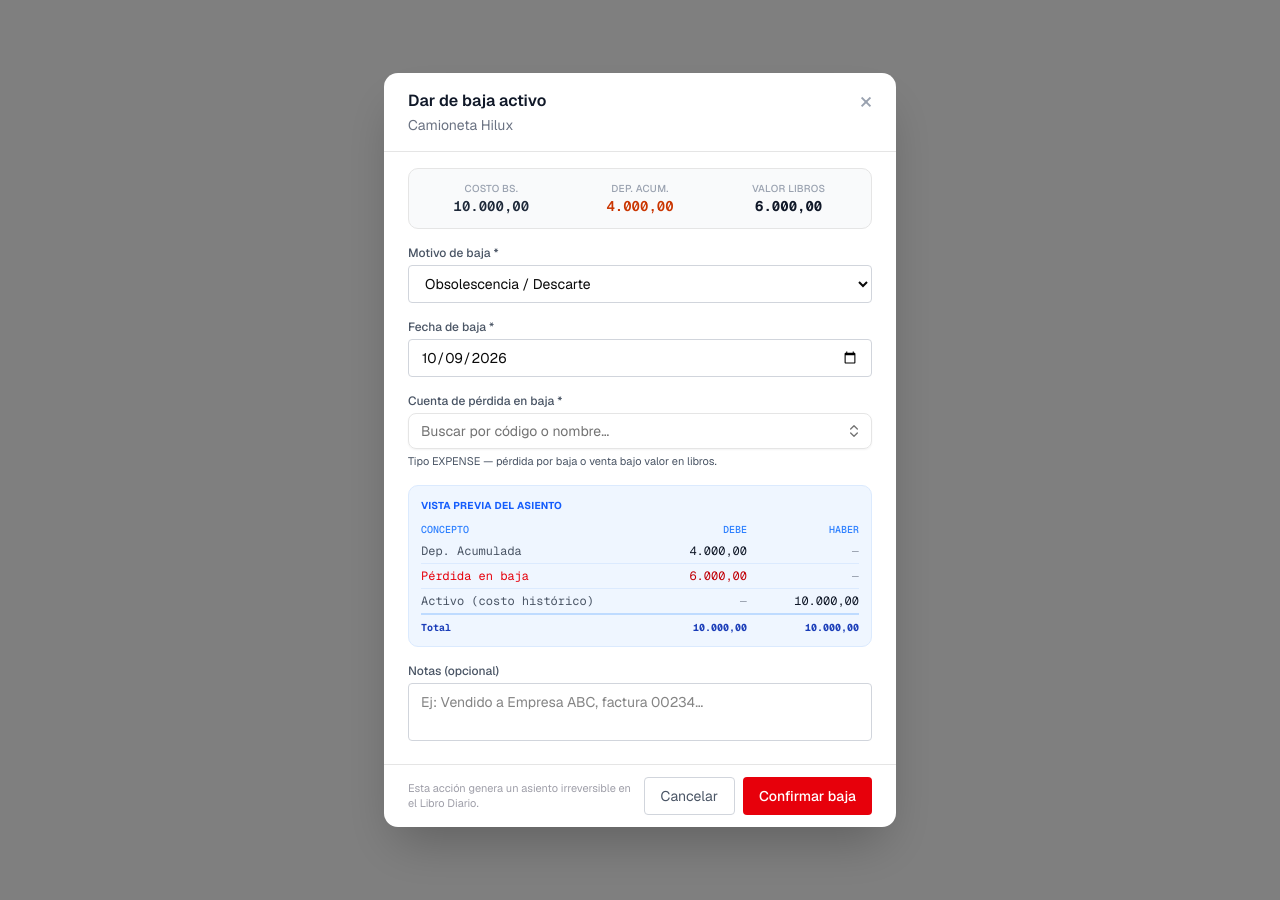
it: DisposeAssetModal — los selectores de cuenta son AccountCombobox y aparecen SOLO cuando hacen falta (SPEC-012 B2) › venta exactamente al valor en libros: SOLO la cuenta de cobro (no hay ganancia ni pérdida)
Select "Venta del activo" in the 1st dropdown at [640, 284], box [408,265,872,303]
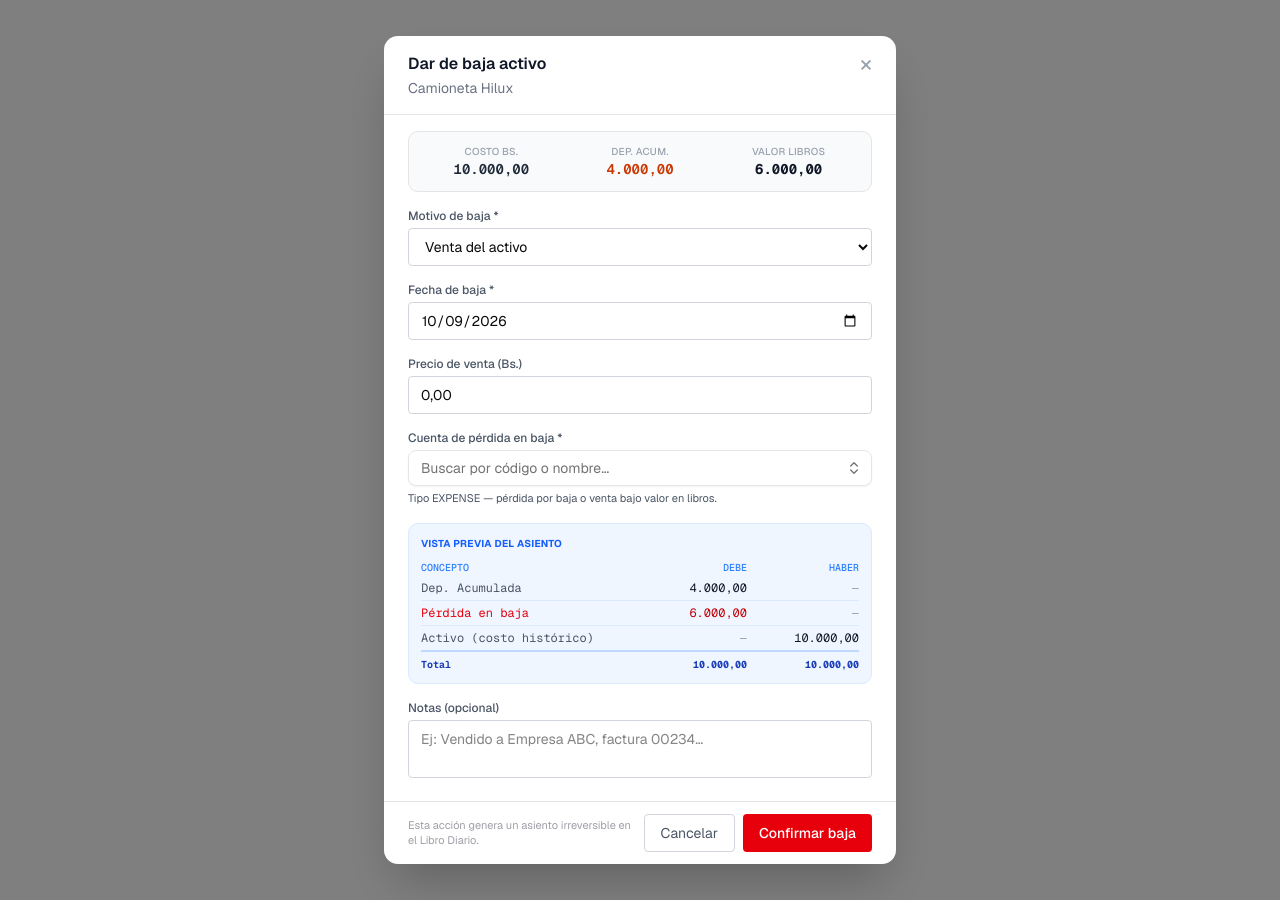
Type "6000" into the field with placeholder "0,00" at [640, 395], box [408,376,872,414]
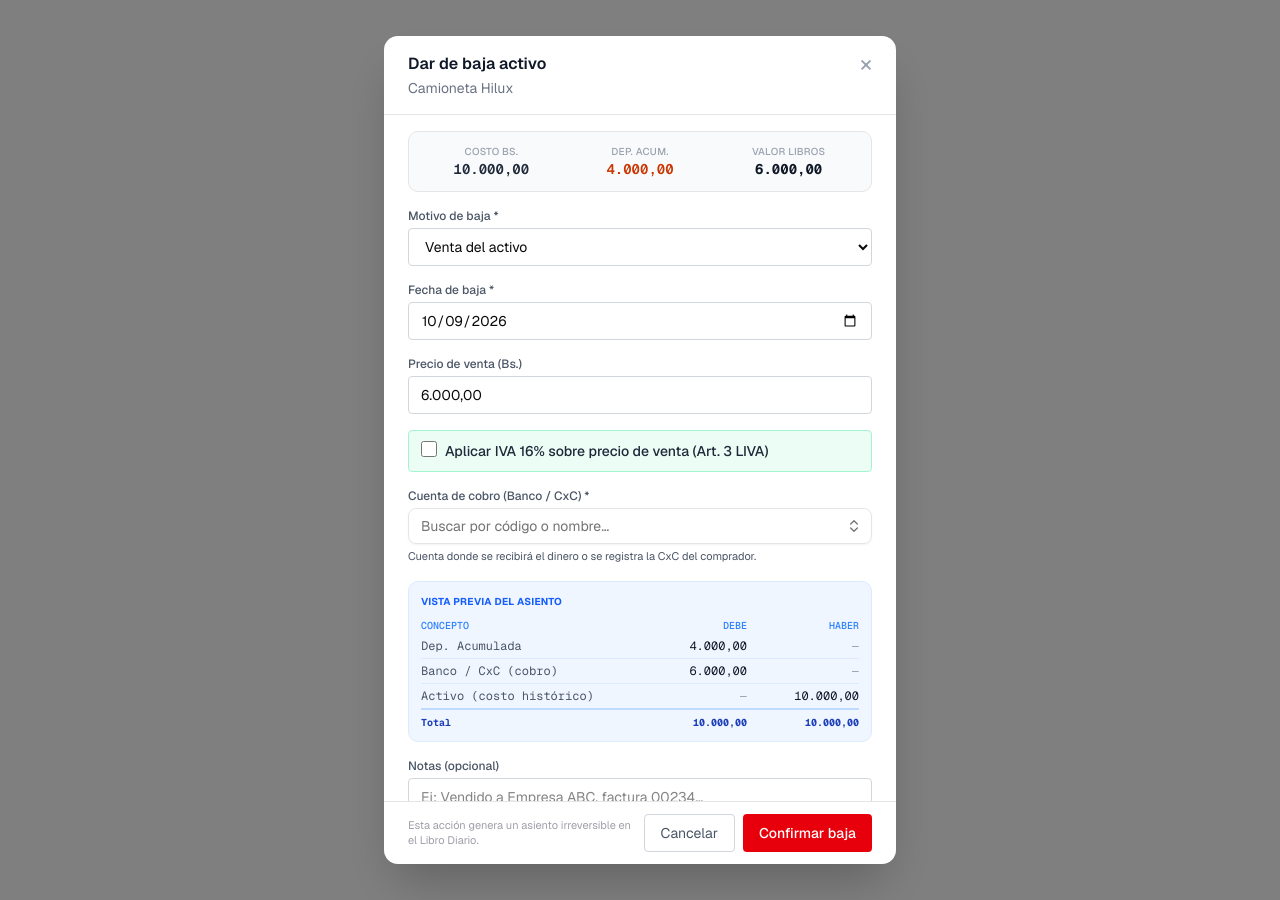
Now the dropdown labelled "Cuenta de cobro (Banco / CxC) *" is shown, box [408,508,872,544]
Now the label labelled "Cuenta de pérdida en baja *" is gone
